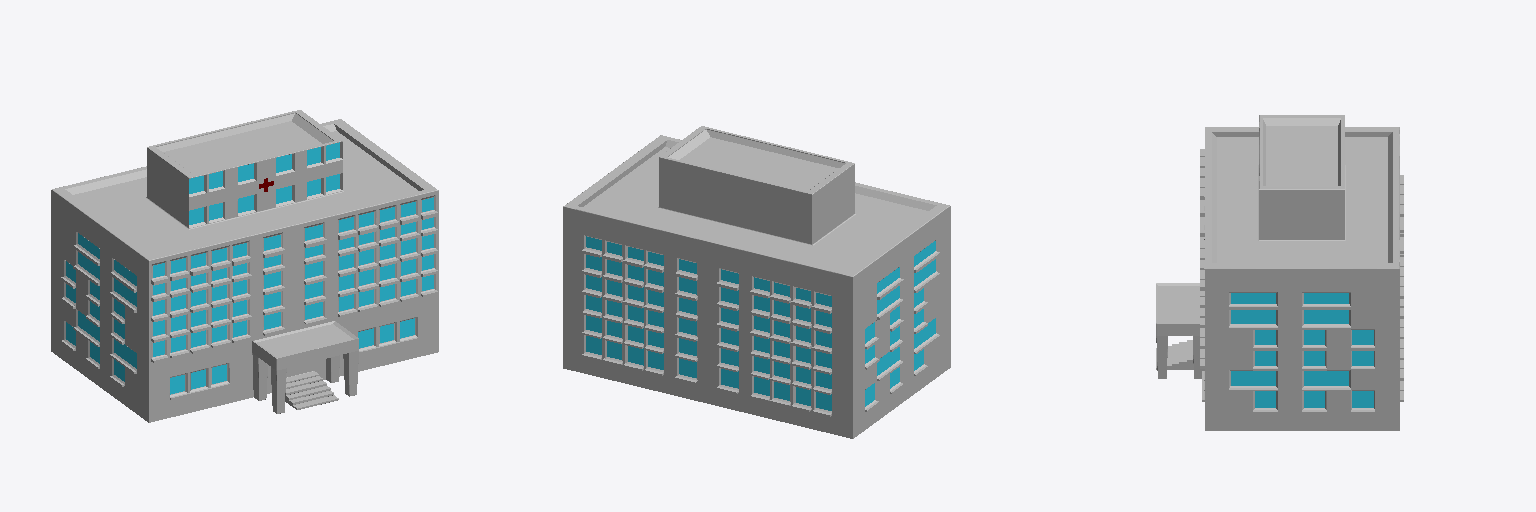
Rendered from texturedHospital.obj.
3 views of the same model, side by side, from view 1: azimuth 30°, elevation 25°; view 2: azimuth 150°, elevation 25°; view 3: azimuth 270°, elevation 25° (orthographic).
Parts seen in each view (by area): view 1: pCube5; view 2: pCube5; view 3: pCube5.
Boxes of the visible parts, x1=… form: pCube5: x1=51, y1=110, x2=438, y2=422; pCube5: x1=563, y1=126, x2=950, y2=438; pCube5: x1=1156, y1=115, x2=1403, y2=430.
Bounding box in the file's own units: 3203 × 2165 × 2340.